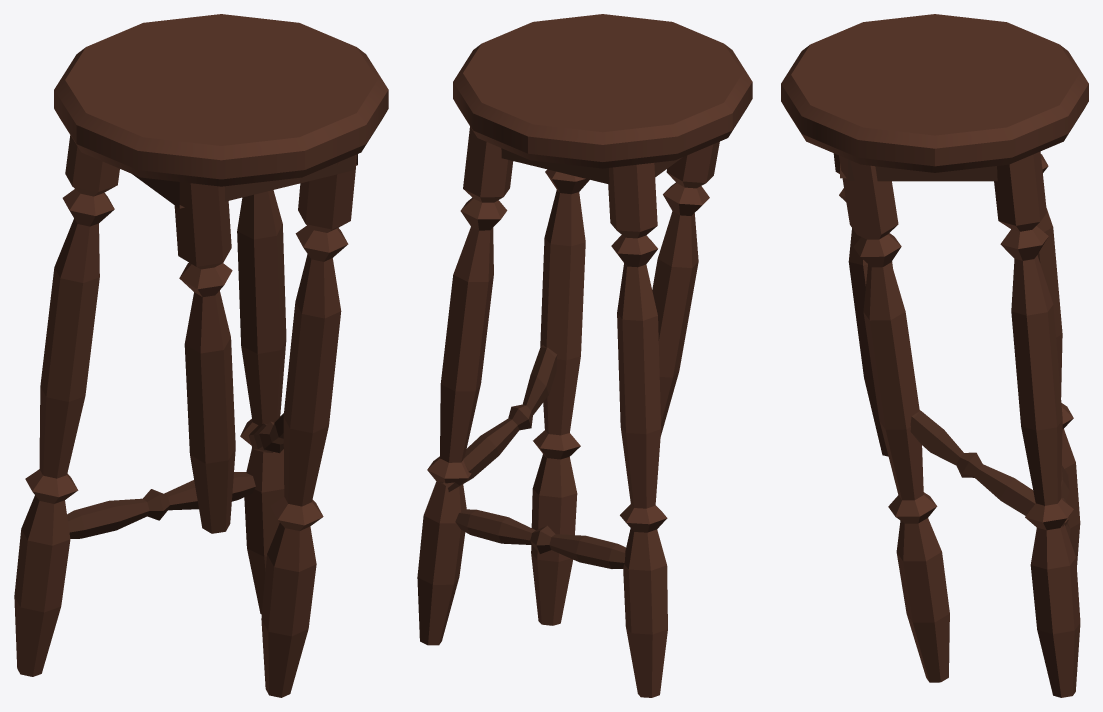
File: SM_Prop_Stool_01.012.obj
3 views of the same model, side by side, from view 1: azimuth 30°, elevation 25°; view 2: azimuth 150°, elevation 25°; view 3: azimuth 270°, elevation 25° (orthographic). The views are drawn at different scales.
Parts seen in each view (by area): view 1: SM_Prop_Stool_01.012_0; view 2: SM_Prop_Stool_01.012_0; view 3: SM_Prop_Stool_01.012_0.
Part boxes in pixels (box(x1,y1,x2,y2)): SM_Prop_Stool_01.012_0: box(14, 14, 388, 697); SM_Prop_Stool_01.012_0: box(417, 14, 752, 697); SM_Prop_Stool_01.012_0: box(781, 14, 1088, 697).
Size of the model in its own units: 0.4026 by 0.834 by 0.4026.
1 material, 1 textured.
